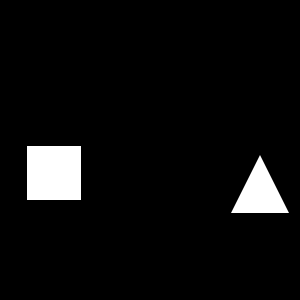circle: (27, 146, 81, 200)
triangle: (231, 155, 289, 213)
